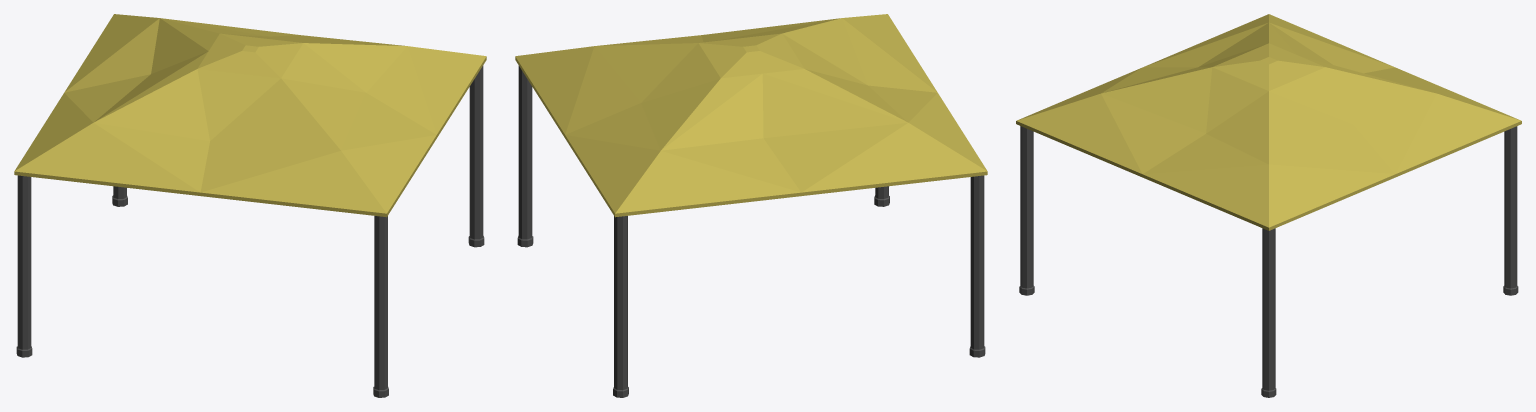
Rendered from TT_tent_yellow.fbx.
3 views of the same model, side by side, from view 1: azimuth 30°, elevation 25°; view 2: azimuth 150°, elevation 25°; view 3: azimuth 270°, elevation 25° (orthographic). The views are drawn at different scales.
Visible parts, largest first — view 1: Indian_tent_Yellow; view 2: Indian_tent_Yellow; view 3: Indian_tent_Yellow.
Part boxes in pixels (left/top/right/bottom): Indian_tent_Yellow: left=14, top=14, right=486, bottom=397; Indian_tent_Yellow: left=515, top=14, right=987, bottom=397; Indian_tent_Yellow: left=1016, top=14, right=1521, bottom=397.
Size of the model in its own units: 80.08 by 40.53 by 80.08.
